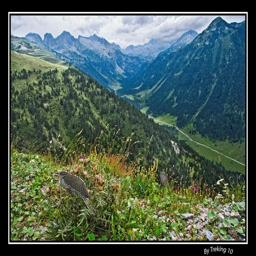Cuckoo: (55, 171, 95, 216)
